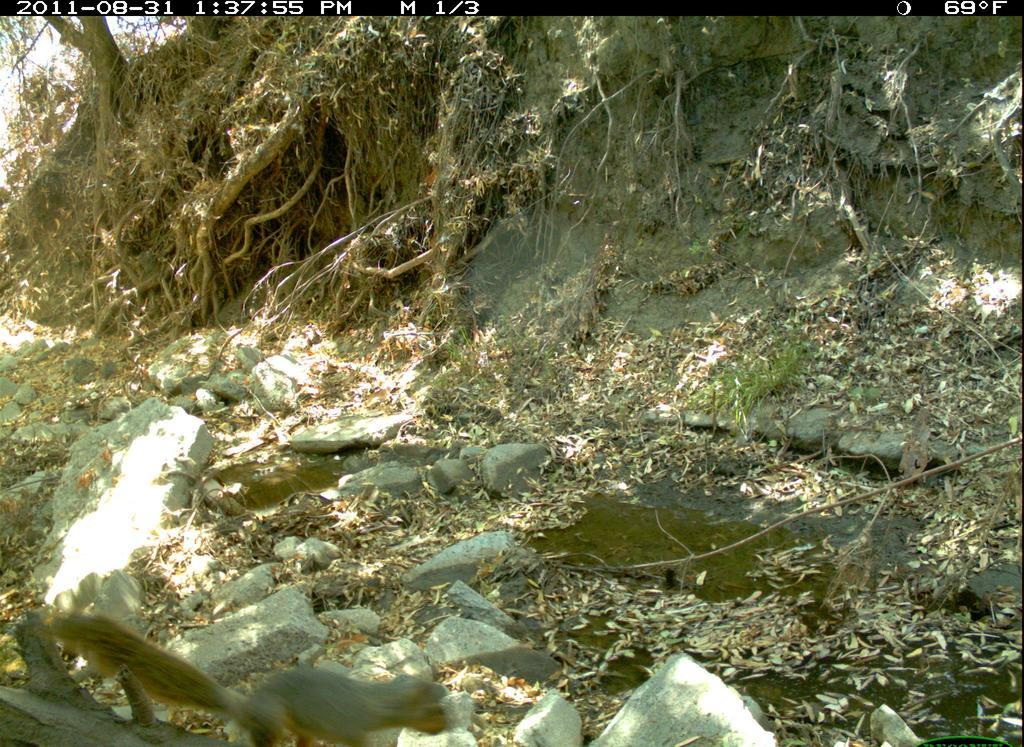squirrel: (29, 598, 459, 747)
